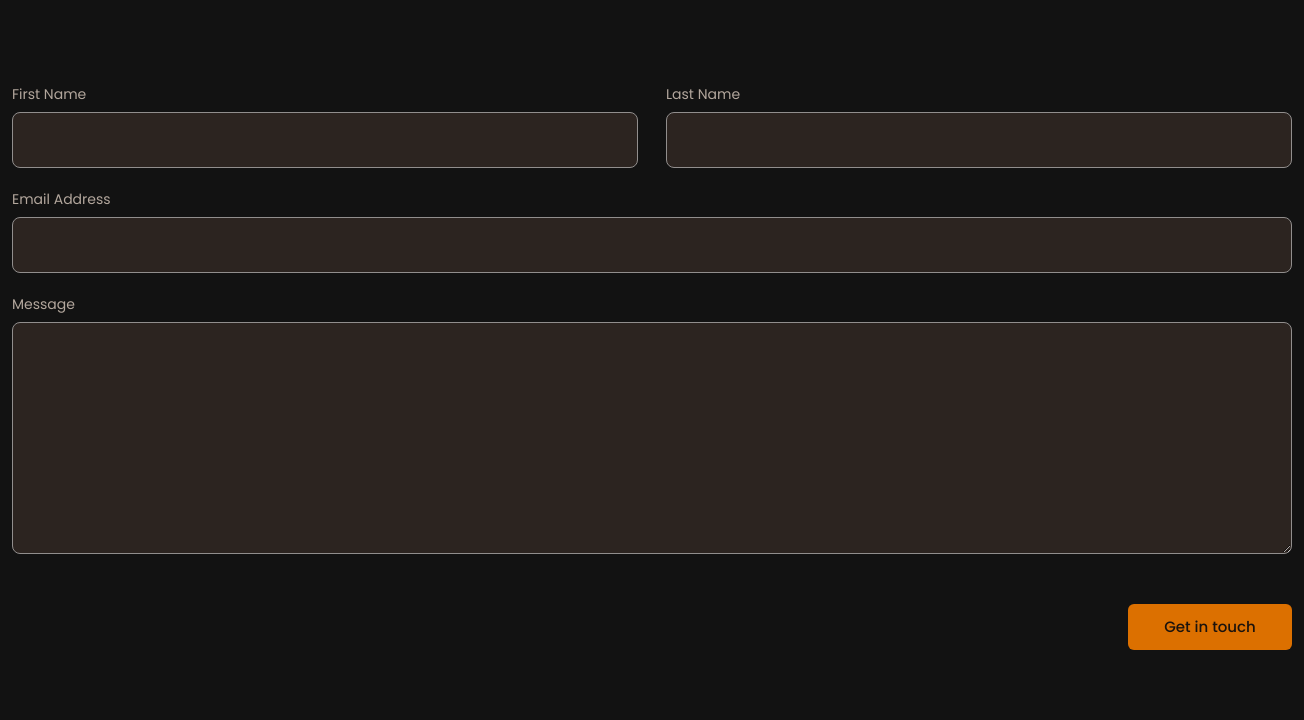
it: ContactForm › sends the trimmed values and thanks the visitor
The image size is (1304, 720).
Type "Ada" into the field labelled "First Name" at coordinates (325, 140), box [12, 112, 638, 168]
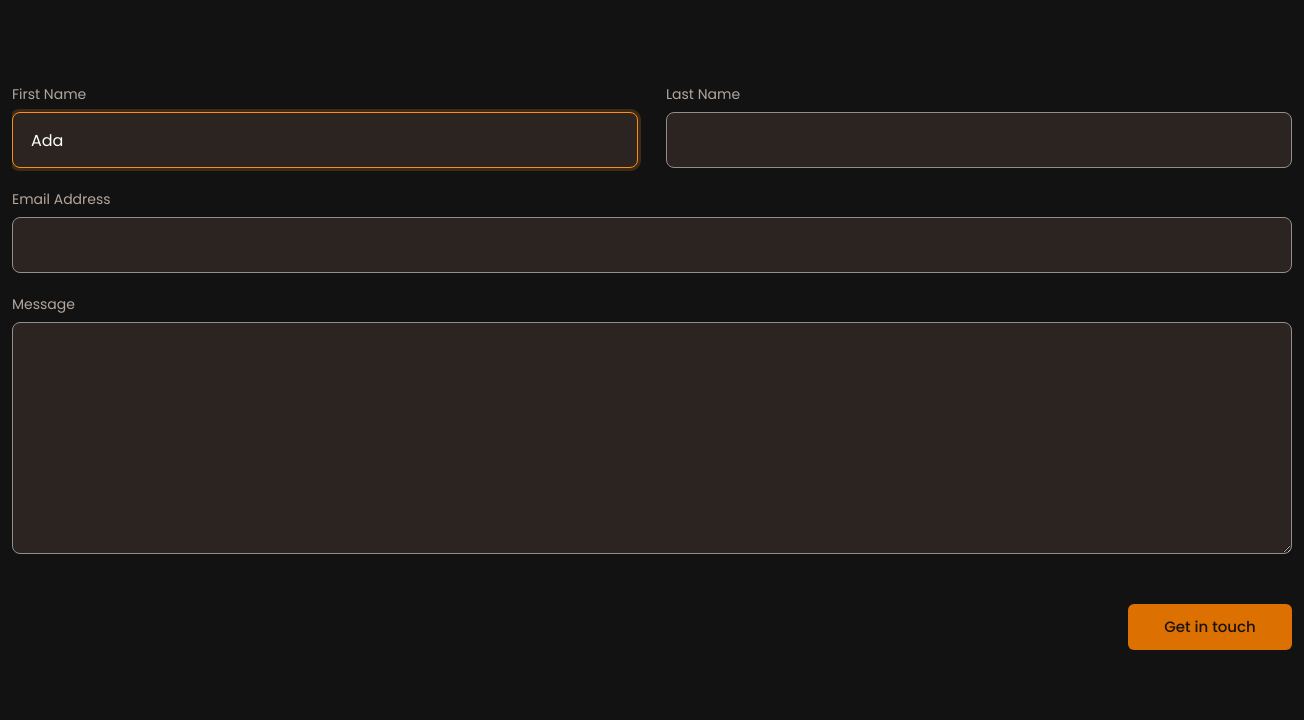
Type "Lovelace" into the field labelled "Last Name" at coordinates (979, 140), box [666, 112, 1292, 168]
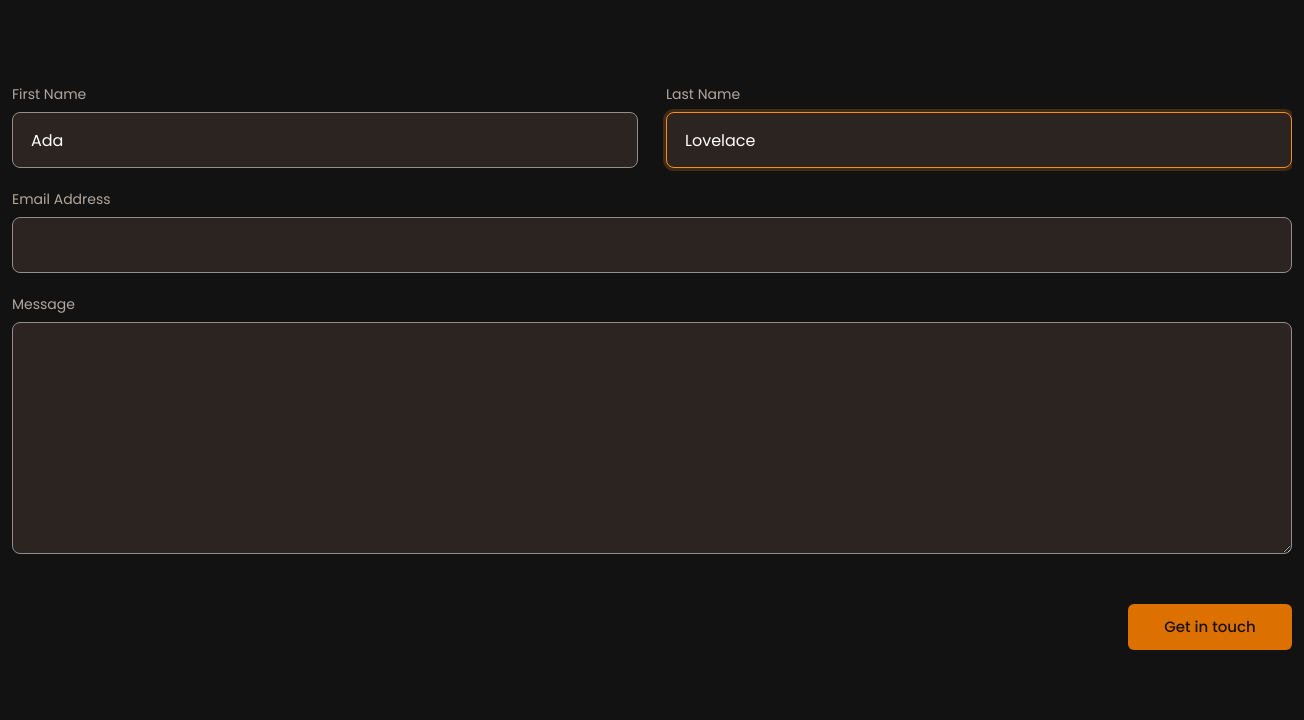
Type "ada@example.com" into the field labelled "Email Address" at coordinates (652, 245), box [12, 217, 1292, 273]
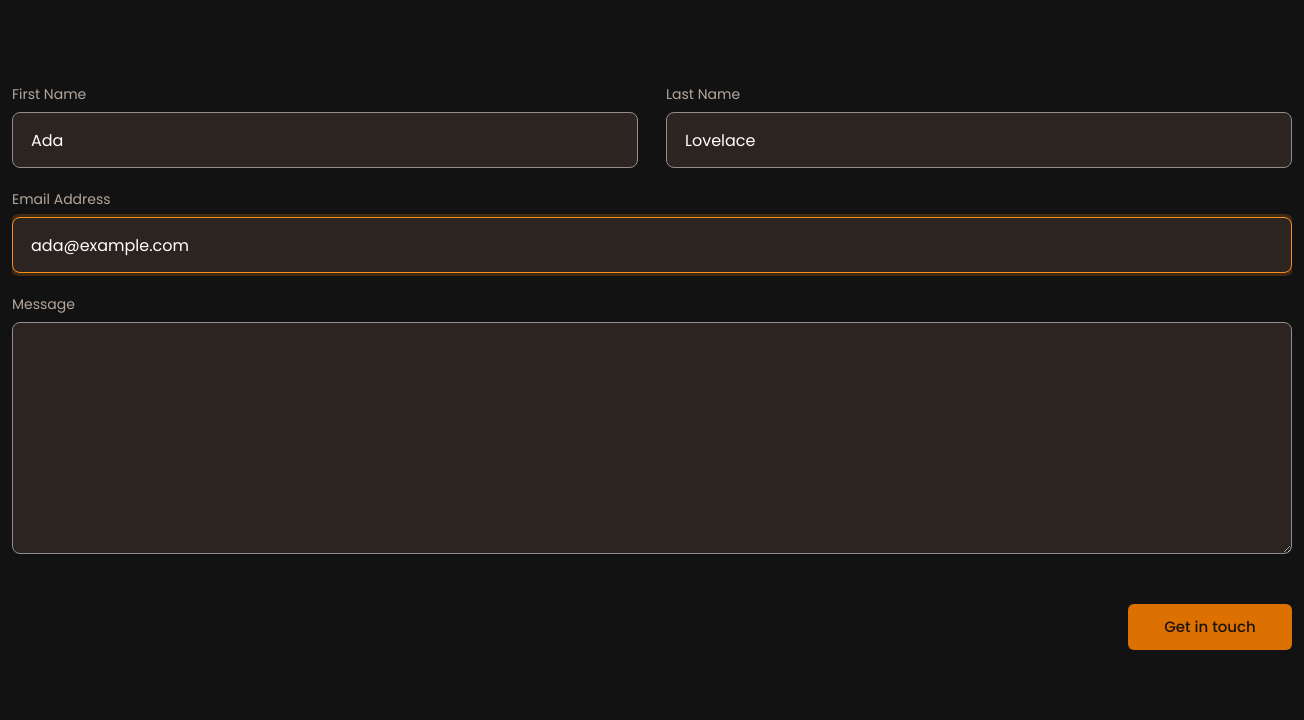
Type "Hello, I would like to talk about a project." into the text box labelled "Message" at coordinates (652, 438), box [12, 322, 1292, 554]
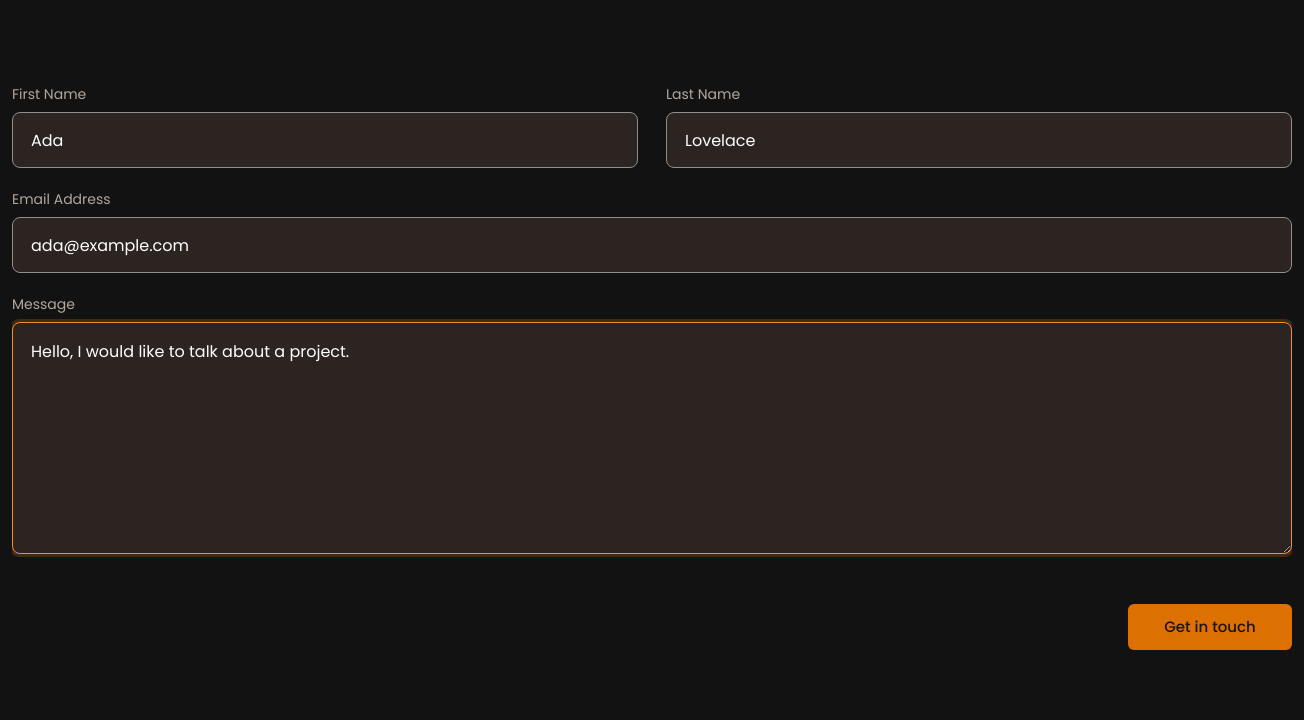
Click the button "Get in touch" at coordinates (1210, 627), box [1128, 604, 1292, 650]
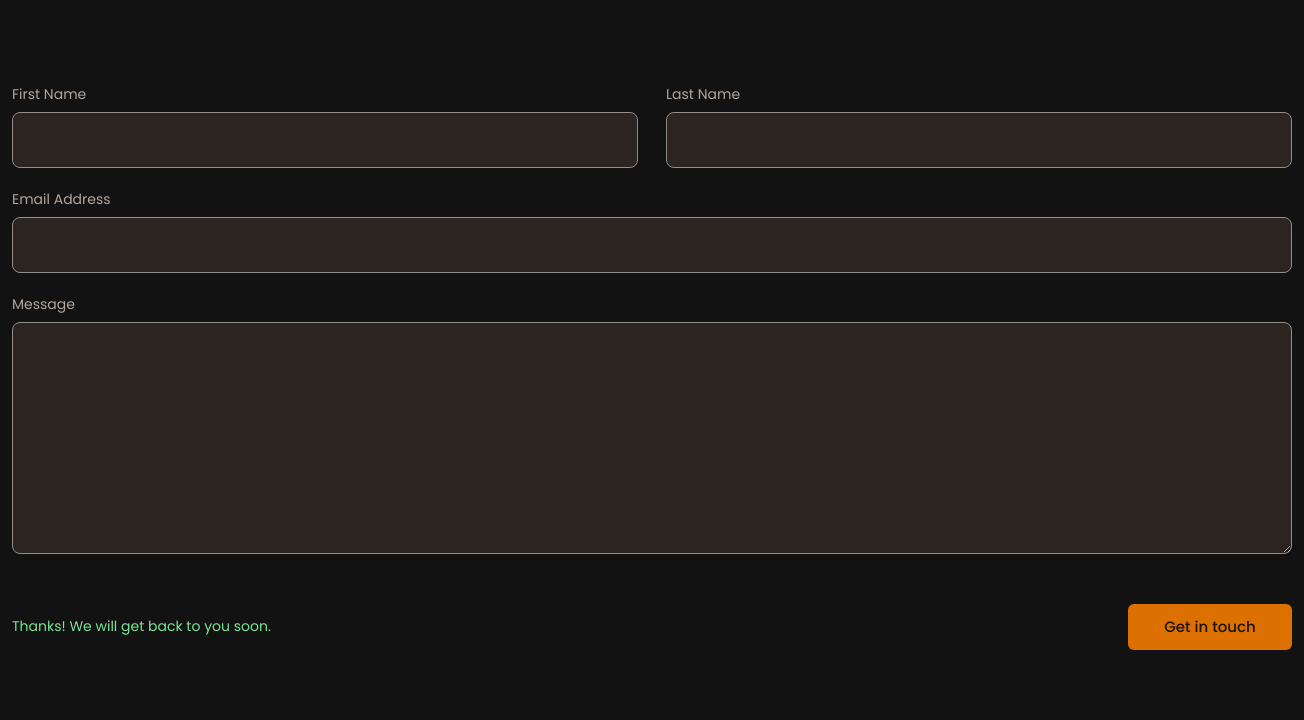
Expected: the message reads "Thanks! We will get back to you soon.", [12, 616, 271, 636]
Expected: the field labelled "First Name" is empty, [12, 112, 638, 168]
